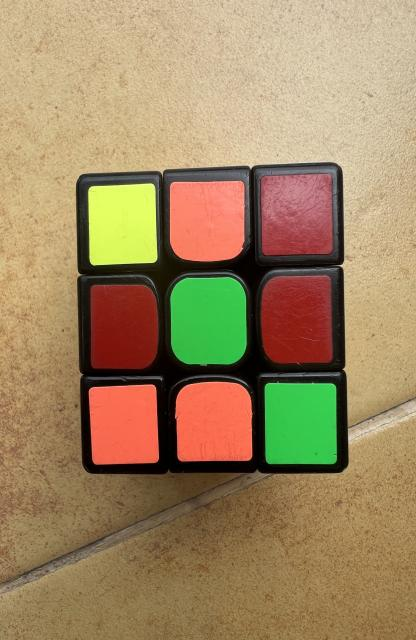Green: (170, 276, 247, 365), (264, 383, 337, 465)
Orange: (176, 381, 252, 461), (170, 181, 245, 261), (89, 385, 159, 465)
Red: (261, 275, 333, 364), (261, 174, 333, 256), (90, 285, 158, 369)
Yellow: (88, 184, 157, 265)
